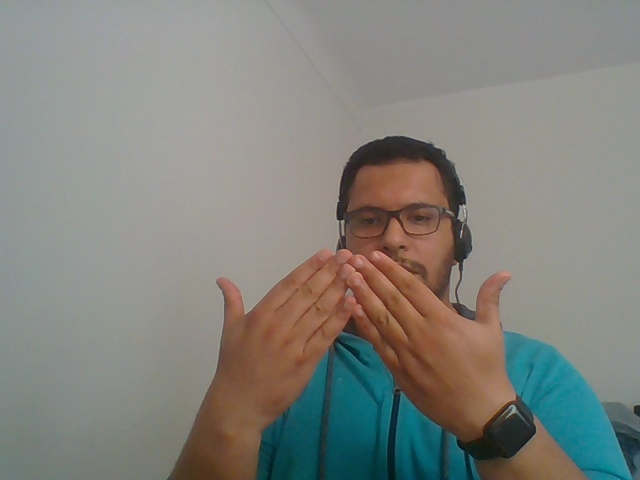thanks: (147, 227, 596, 480)
